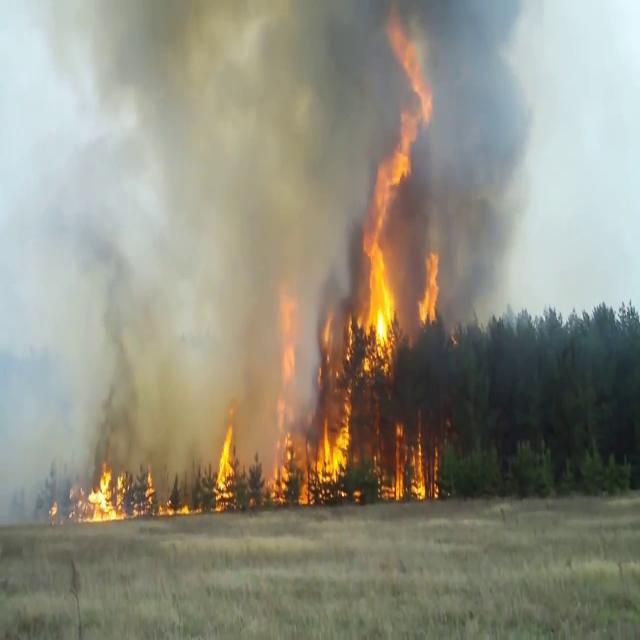Fire: (349, 50, 437, 369), (266, 412, 352, 506), (383, 418, 437, 503), (78, 458, 128, 523), (213, 422, 237, 507), (418, 248, 442, 332)
Smoke: (2, 0, 359, 477)
